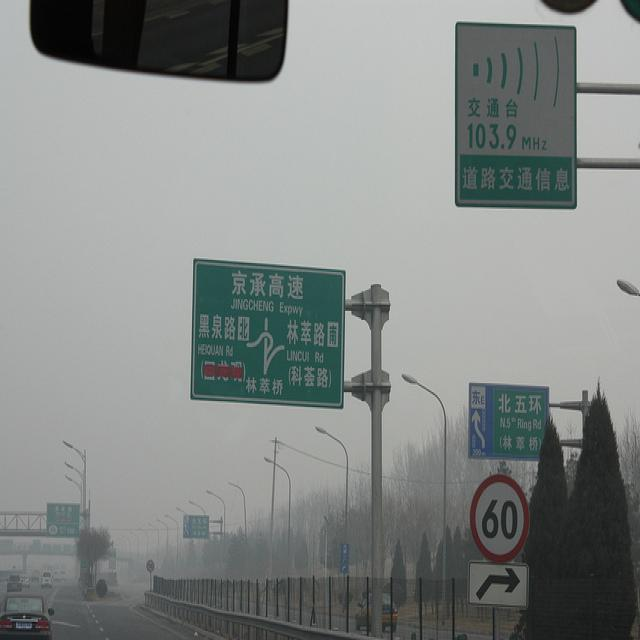Vehicle: (0, 591, 54, 640), (354, 592, 398, 632), (7, 576, 22, 591), (41, 571, 52, 589), (53, 569, 62, 583), (22, 576, 30, 587), (61, 569, 66, 580)
